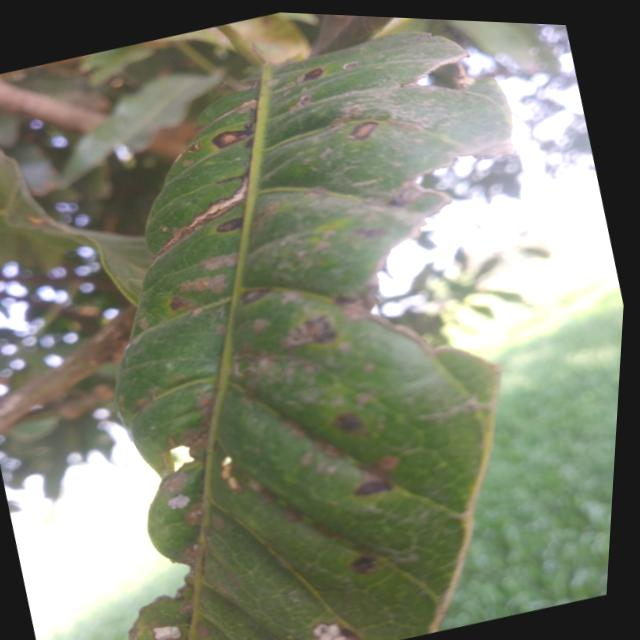Anthracnose: (254, 227, 384, 376), (352, 465, 403, 505), (209, 122, 254, 154), (347, 115, 386, 141)
Bacterial Cancer: (185, 170, 265, 225)
